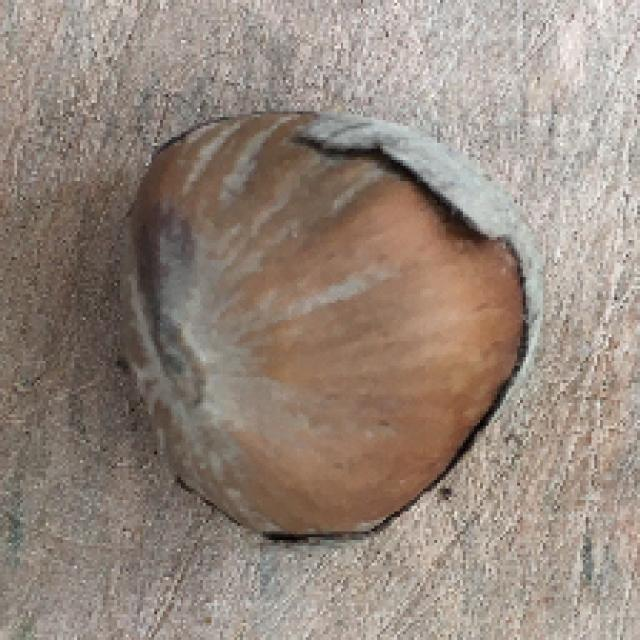damagedHazelnut: (100, 88, 550, 577)
